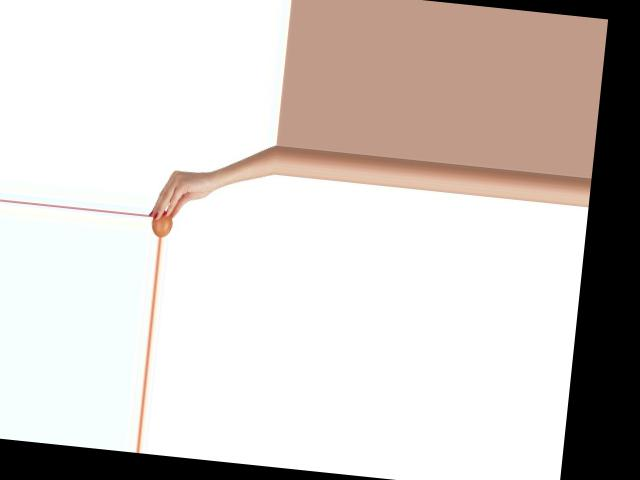egg: (151, 210, 173, 237)
